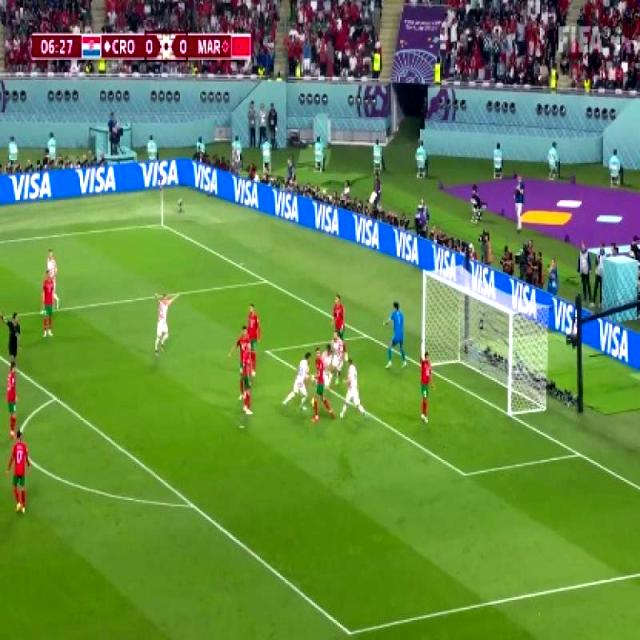bigarea_bottom_inner: (336, 613, 361, 640)
bigarea_top_outter: (256, 269, 274, 291)
bottom_arc_area_intersection: (180, 489, 202, 519)
corner: (149, 216, 169, 230)
smallarea_bottom_inner: (452, 457, 476, 491)
smallarea_bottom_outter: (568, 440, 588, 466)
smallarea_top_inner: (258, 338, 276, 362)
smallarea_top_outter: (356, 323, 374, 345)
top_arc_area_intersection: (45, 386, 63, 408)
